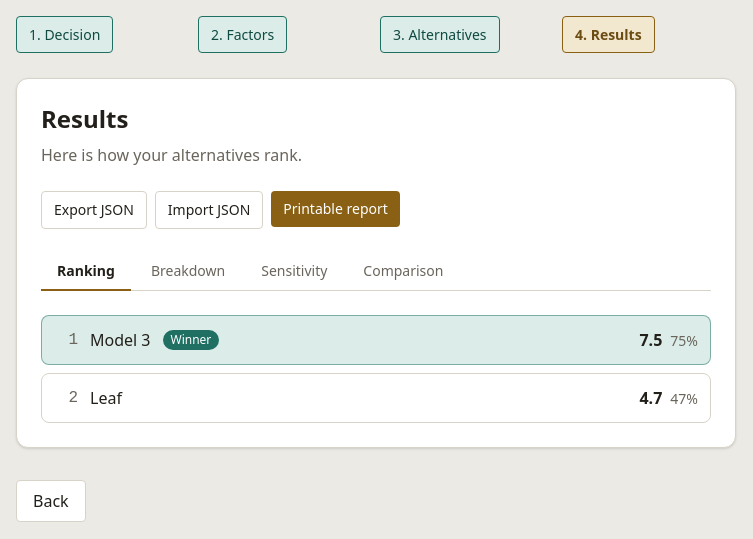
Test: ResultsStep — tabs › switches to the Sensitivity tab
Click the tab "Sensitivity": point(294, 272) x1=245 y1=253 x2=343 y2=291
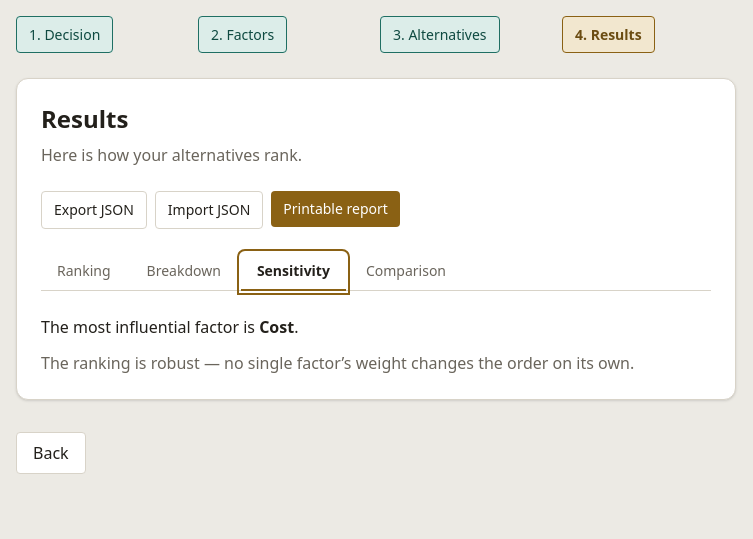
Now the text "The most influential factor is Cost." is shown, box x1=41 y1=316 x2=298 y2=338
